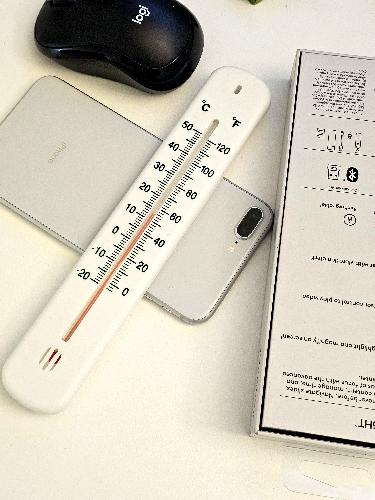thermo: (0, 56, 285, 417)
